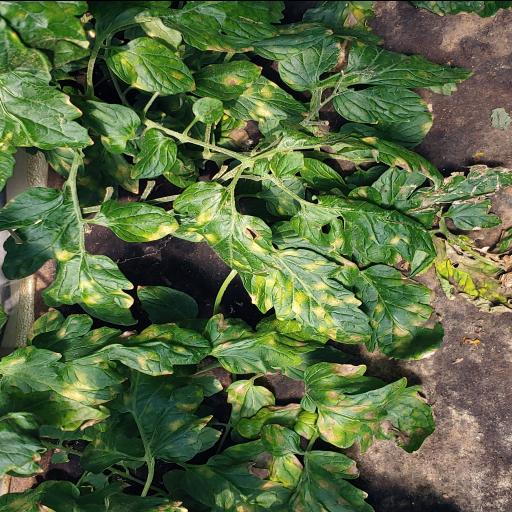disease_tomato: (0, 186, 138, 325), (250, 246, 370, 342), (172, 180, 278, 276), (356, 263, 444, 361), (126, 366, 214, 462), (0, 344, 128, 406), (76, 322, 212, 376), (204, 312, 324, 373), (106, 36, 196, 94), (223, 74, 308, 122), (98, 198, 178, 242)
